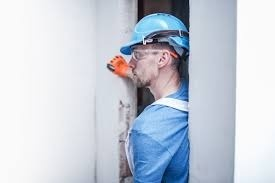helmet: (117, 11, 192, 56)
person with partial safety: (109, 12, 196, 183)
